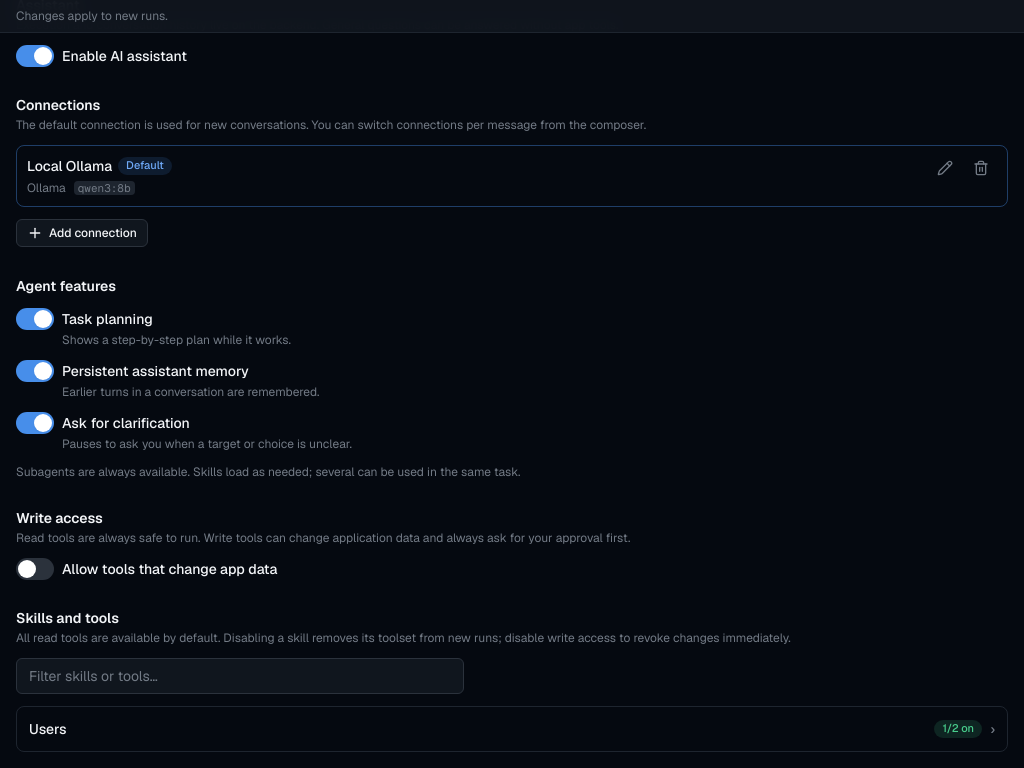
Test case: capability settings › shows reads enabled and keeps individual write tools disabled until write access is active
(page scrolled)
Click the text "Users". click: {"x": 48, "y": 729}
box: [29, 720, 66, 738]
(page scrolled)
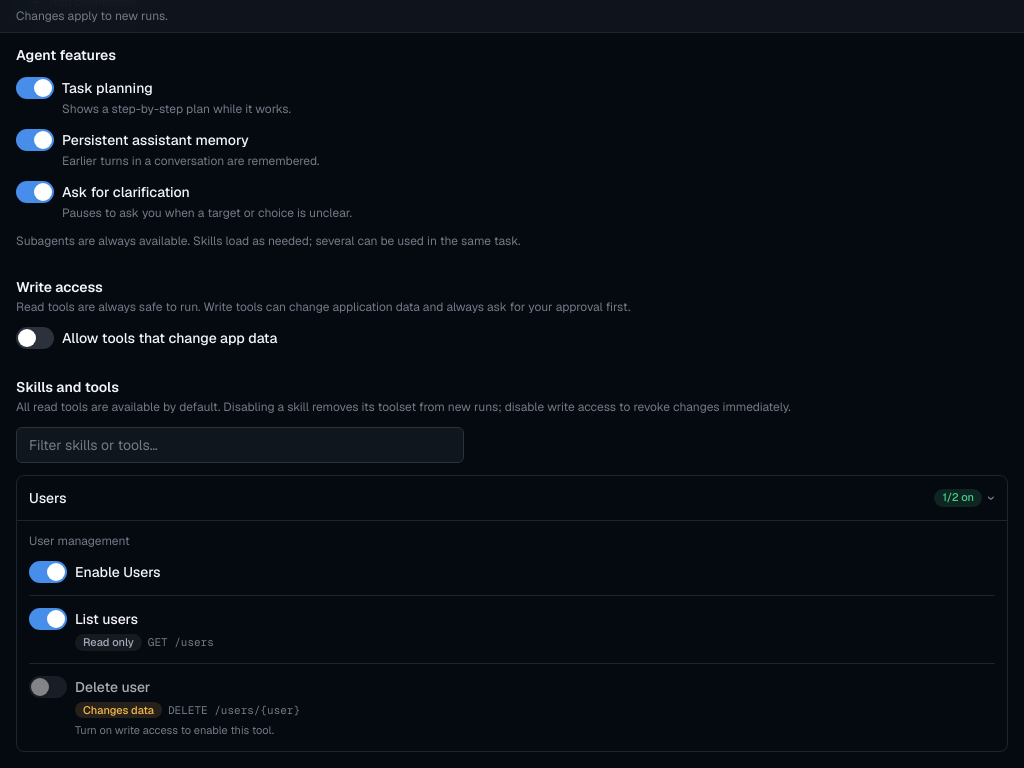
Expected: the switch named "List users" next to "List users" is checked, [29, 608, 67, 630]
Expected: the switch named "Delete user" next to "Delete user" is disabled, [29, 676, 67, 698]
